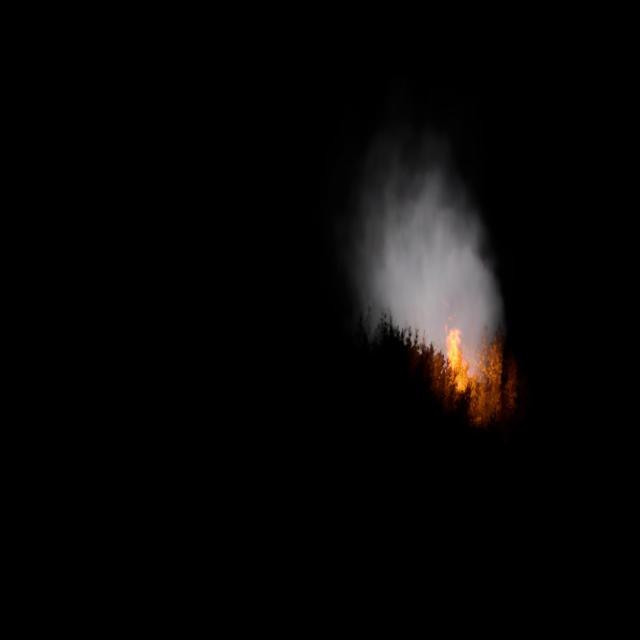fire: (440, 322, 471, 394)
smoke: (348, 146, 505, 380)
